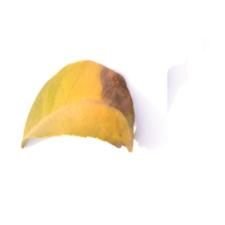Black: (94, 58, 142, 120)
